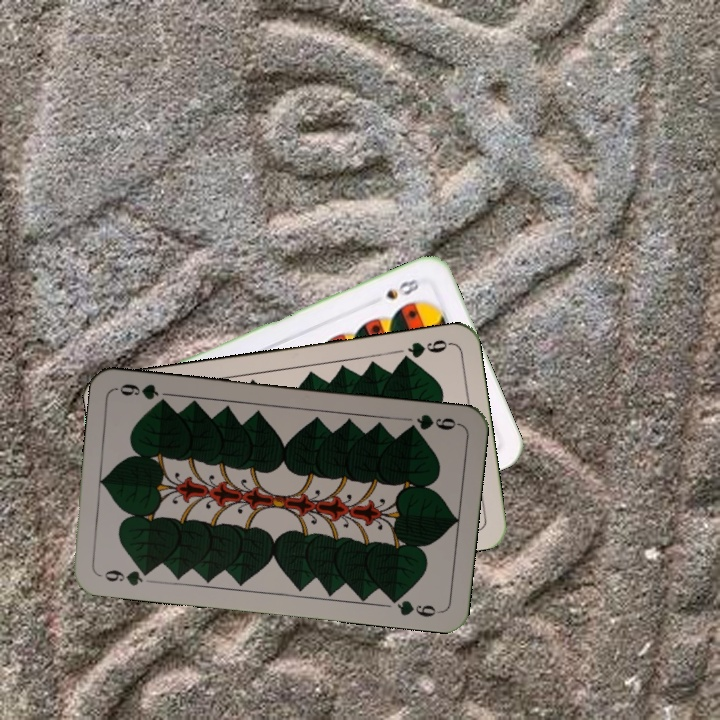G9: (396, 335, 454, 365), (402, 410, 462, 434), (95, 565, 155, 588)
S8: (382, 274, 422, 302)
